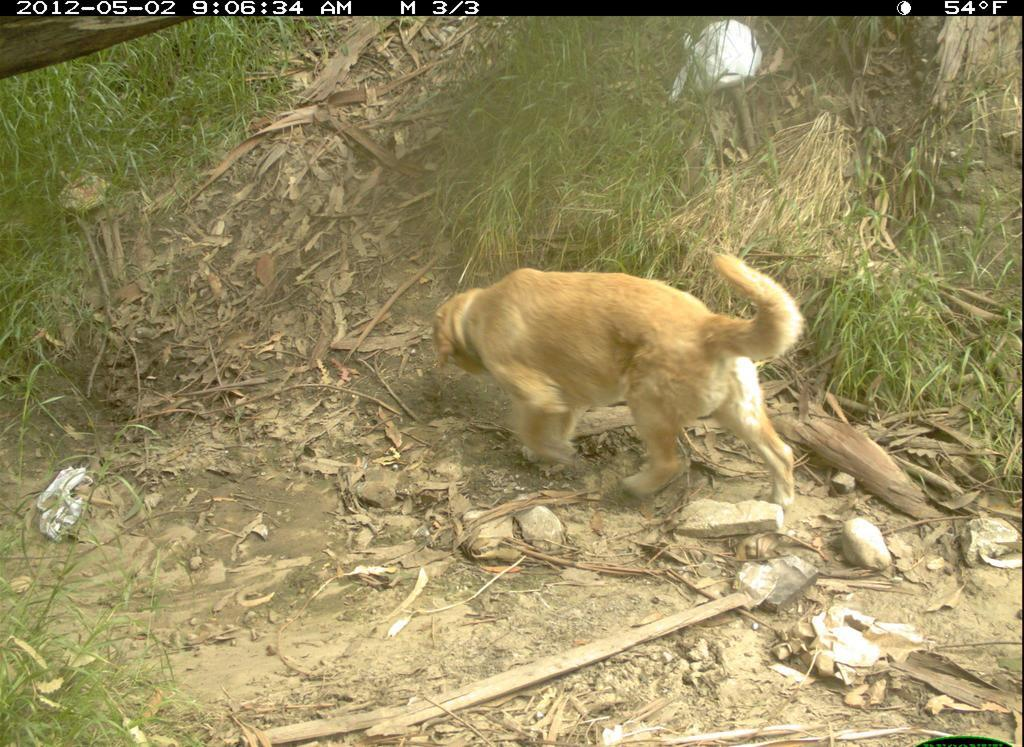dog: (410, 251, 815, 525)
